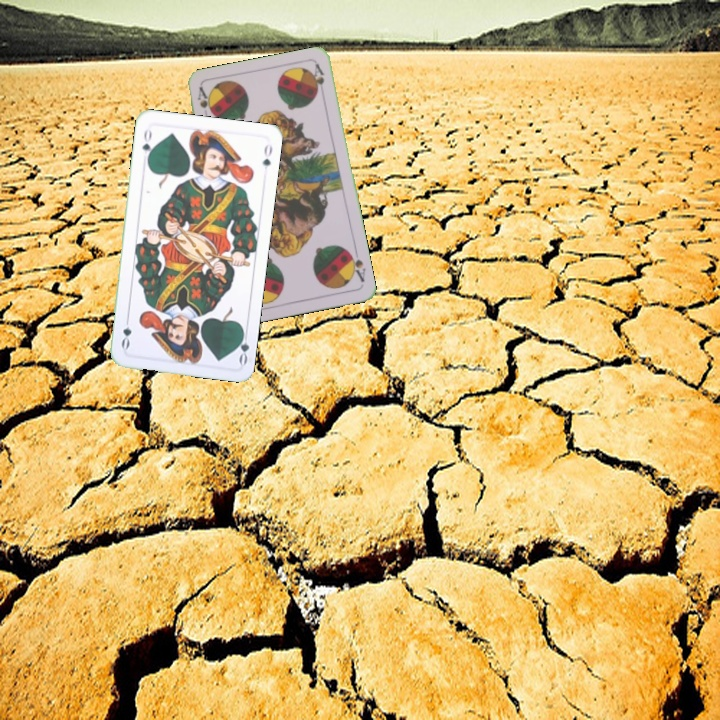GO: (232, 325, 252, 367), (138, 125, 155, 165)
SA: (344, 247, 368, 285), (193, 84, 215, 118)
